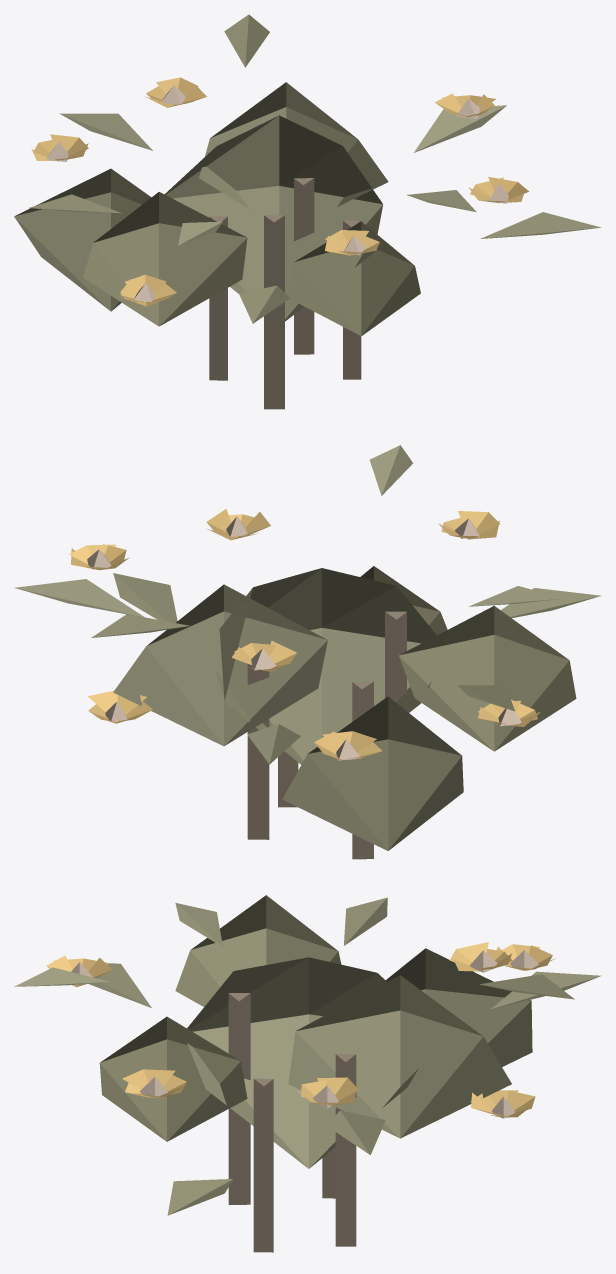
Rendered from guan.lianqiao@flowering__winter.glb.
3 renders of one model, top to bottom at view 1: azimuth 30°, elevation 25°; view 2: azimuth 150°, elevation 25°; view 3: azimuth 270°, elevation 25°, orthographic. The views are drawn at different scales.
Visible parts, largest first — view 1: guan.lianqiao@flowering__winter; view 2: guan.lianqiao@flowering__winter; view 3: guan.lianqiao@flowering__winter.
Boxes of the visible parts, x1,y1,x2,y2 form: guan.lianqiao@flowering__winter: (14, 14, 600, 409); guan.lianqiao@flowering__winter: (14, 445, 601, 859); guan.lianqiao@flowering__winter: (14, 895, 601, 1252).
Size of the model in its own units: 3.08 by 1.6 by 3.03.
